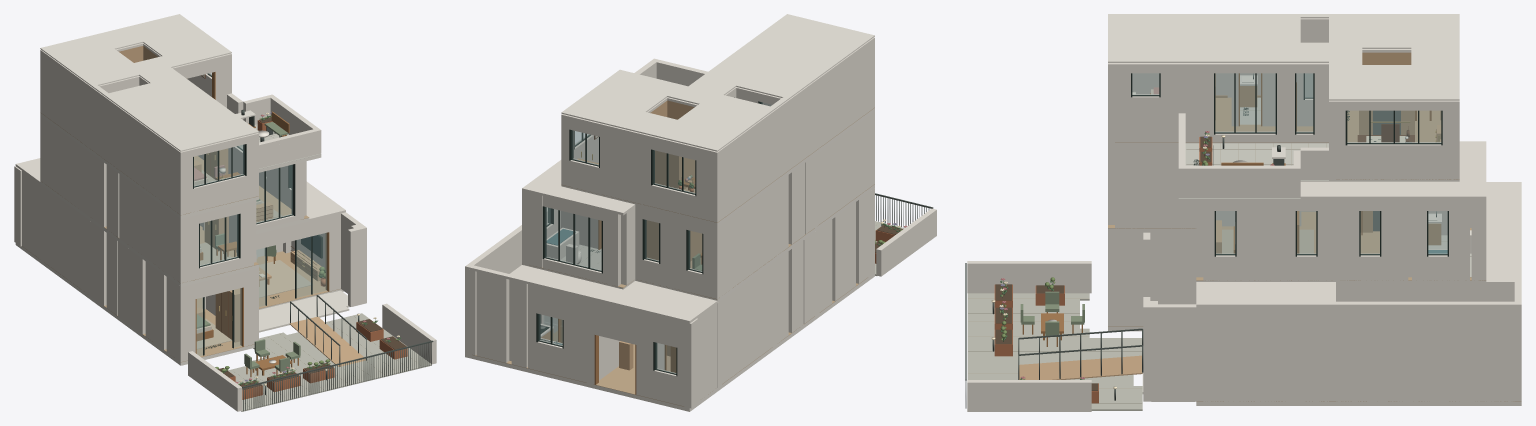
The model's file is 第6户_三层住宅.glb.
The picture shows the model from 3 angles, left to right: view 1: azimuth 30°, elevation 25°; view 2: azimuth 150°, elevation 25°; view 3: azimuth 270°, elevation 25°; orthographic projection. The views are drawn at different scales.
Visible parts, largest first — view 1: 主体屋顶_屋顶细部待核, 原图南院完成面_不表达地下构造, 西侧分户墙.001, 西侧分户墙, F1-W002.001, F2-W006.001, F2-W008.001, 原图南廊完成面_展示板厚, 室内木地面, F1-south-living玻璃.001, F2-south-main玻璃, F2-south-west玻璃 (+55 smaller); view 2: 主体屋顶_屋顶细部待核, 西侧分户墙.001, 室内顶面_展示构造, 西侧分户墙, F1-W002.001, F2-W006.001, F2-W008.001, F2-north-main-bath玻璃, 书房北墙两窗间.001, F1-W014.001, 南院两侧墙_原图位置高度待核, 室内顶面_展示构造_0 (+65 smaller); view 3: 主体屋顶_屋顶细部待核, F1-W052.001, 原图南院完成面_不表达地下构造, F1-W015.001, 室内顶面_展示构造, 室内顶面_展示构造_0, F1-W052, 南院两侧墙_原图位置高度待核.001, F2-W024.001, 南院两侧墙_原图位置高度待核, F1-W016.001, 卧室东大窗玻璃 (+63 smaller).
Part boxes in pixels (x1,y1,x2,y2): 主体屋顶_屋顶细部待核: (40, 14, 258, 151); 原图南院完成面_不表达地下构造: (228, 313, 431, 411); 西侧分户墙.001: (40, 52, 185, 195); 西侧分户墙: (40, 93, 185, 214); F1-W002.001: (44, 187, 89, 276); F2-W006.001: (131, 183, 177, 261); F2-W008.001: (43, 118, 89, 197); 原图南廊完成面_展示板厚: (259, 290, 349, 332); 室内木地面: (22, 246, 340, 362); F1-south-living玻璃.001: (297, 233, 326, 297); F2-south-main玻璃: (256, 165, 292, 223); F2-south-west玻璃: (200, 214, 238, 266); 主体屋顶_屋顶细部待核: (561, 14, 874, 151); 西侧分户墙.001: (712, 40, 874, 201); 室内顶面_展示构造: (465, 207, 717, 323); 西侧分户墙: (712, 86, 874, 222); F1-W002.001: (722, 263, 772, 362); F2-W006.001: (819, 114, 871, 202); F2-W008.001: (720, 186, 772, 274); F2-north-main-bath玻璃: (545, 207, 601, 270); 书房北墙两窗间.001: (600, 126, 650, 185); F1-W014.001: (476, 271, 509, 341); 南院两侧墙_原图位置高度待核: (876, 208, 936, 276); 室内顶面_展示构造_0: (522, 160, 635, 215); 主体屋顶_屋顶细部待核: (1108, 14, 1459, 100); F1-W052.001: (1336, 307, 1514, 377); 原图南院完成面_不表达地下构造: (967, 293, 1142, 410); F1-W015.001: (1203, 307, 1328, 377); 室内顶面_展示构造: (1196, 182, 1521, 307); 室内顶面_展示构造_0: (1300, 141, 1486, 199); F1-W052: (1336, 377, 1514, 401); 南院两侧墙_原图位置高度待核.001: (967, 380, 1091, 411); F2-W024.001: (1115, 147, 1196, 204); 南院两侧墙_原图位置高度待核: (967, 261, 1091, 293); F1-W016.001: (1150, 304, 1196, 377); 卧室东大窗玻璃: (1215, 73, 1275, 132).
Size of the model in its own units: 9.9 by 10.39 by 18.88.
